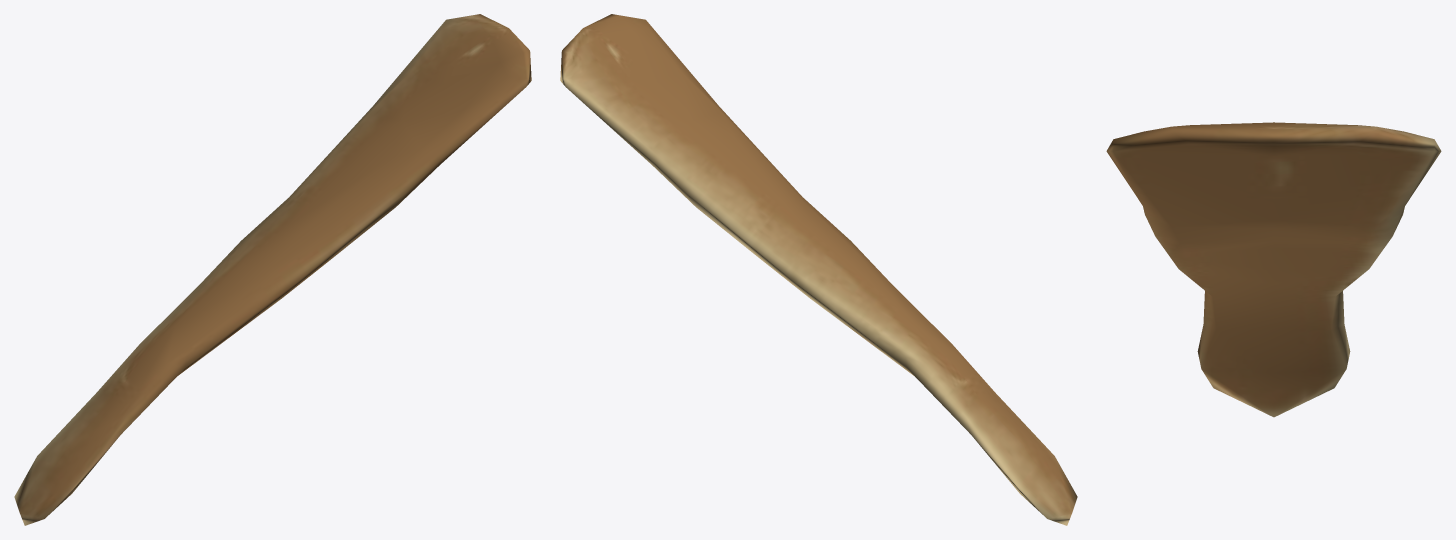
File: Hard_Palate.glb
3 renders of one model, left to right at view 1: azimuth 30°, elevation 25°; view 2: azimuth 150°, elevation 25°; view 3: azimuth 270°, elevation 25°, orthographic. The views are drawn at different scales.
Visible parts, largest first — view 1: Hard_Palate; view 2: Hard_Palate; view 3: Hard_Palate.
Part boxes in pixels (left/top/right/bottom): Hard_Palate: left=14, top=14, right=531, bottom=525; Hard_Palate: left=560, top=14, right=1077, bottom=525; Hard_Palate: left=1106, top=122, right=1441, bottom=417.
Bounding box in the file's own units: 0.2797 × 0.2065 × 0.0825.
Materials: 1 (1 with a texture image).
